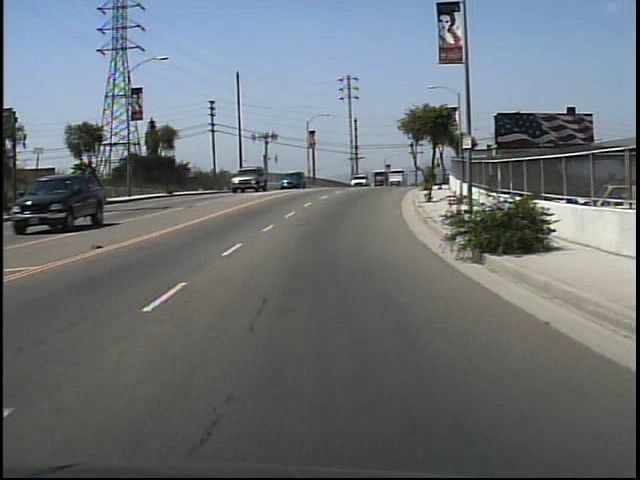person: (432, 163, 447, 192)
